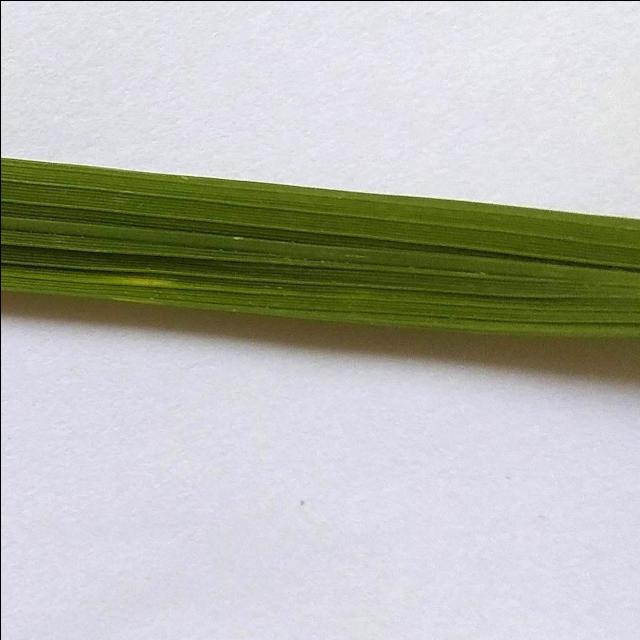healthy: (0, 139, 640, 354)
